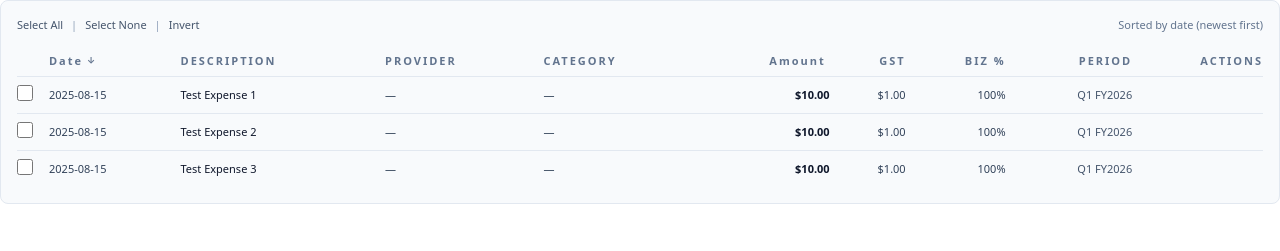
it: ExpensesTable › Bulk Operations › shows selected count in toolbar
Click the checkbox named "select expense" at (25, 93), box [17,85,33,101]
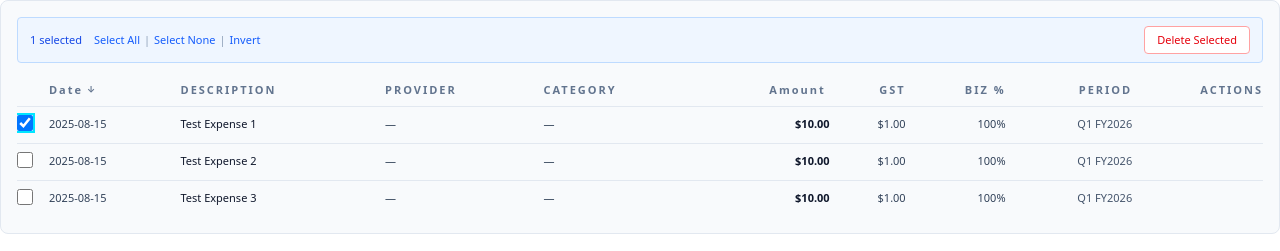
Click the checkbox named "select expense" at (25, 160), box [17,152,33,168]
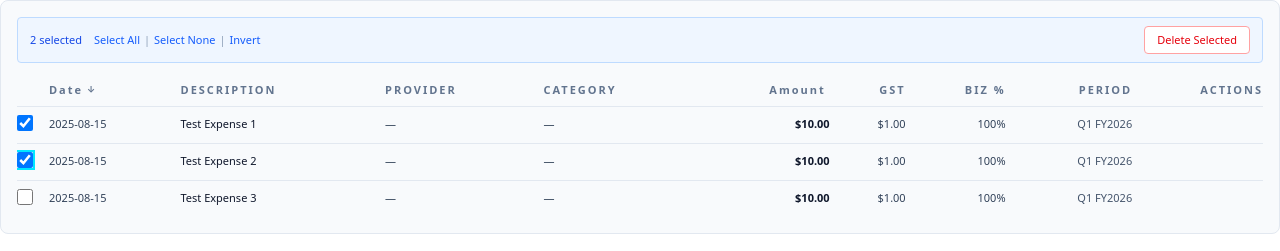
Now the text "2 selected" is shown, box [30,32,82,48]
